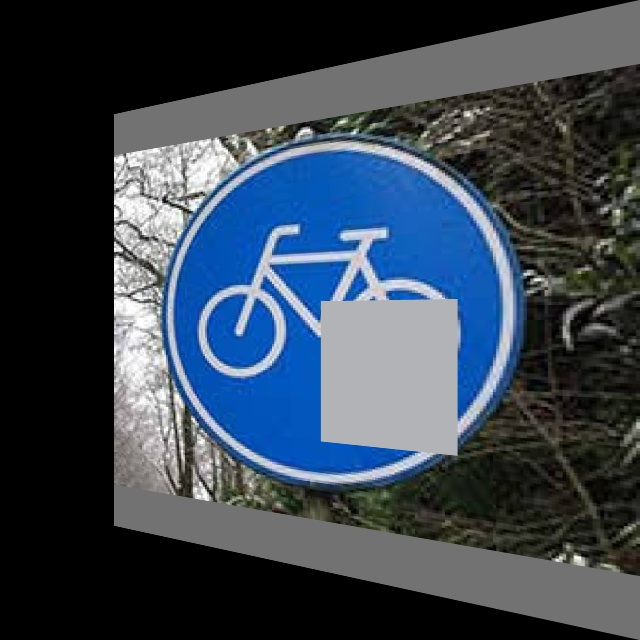Compulsory_Cycle_Track: (168, 115, 524, 491)
